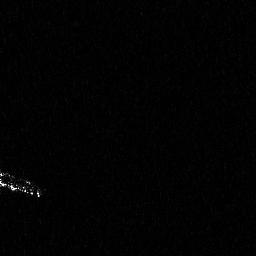ship: (1, 168, 47, 200)
